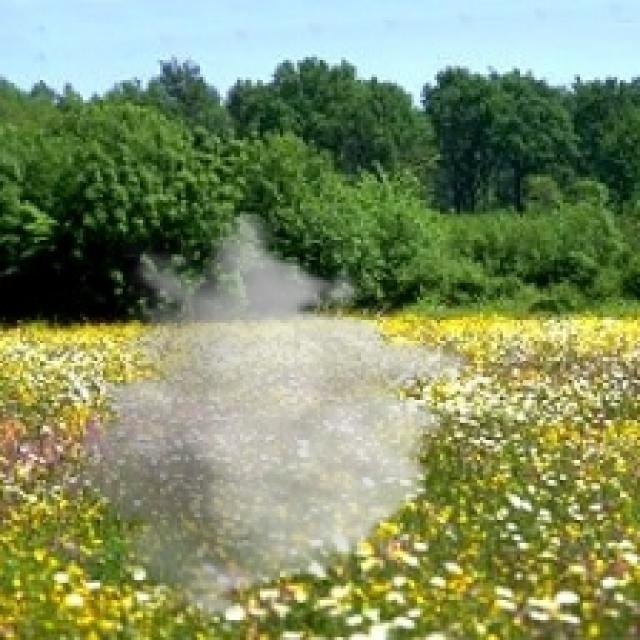smoke: (57, 209, 477, 620)
